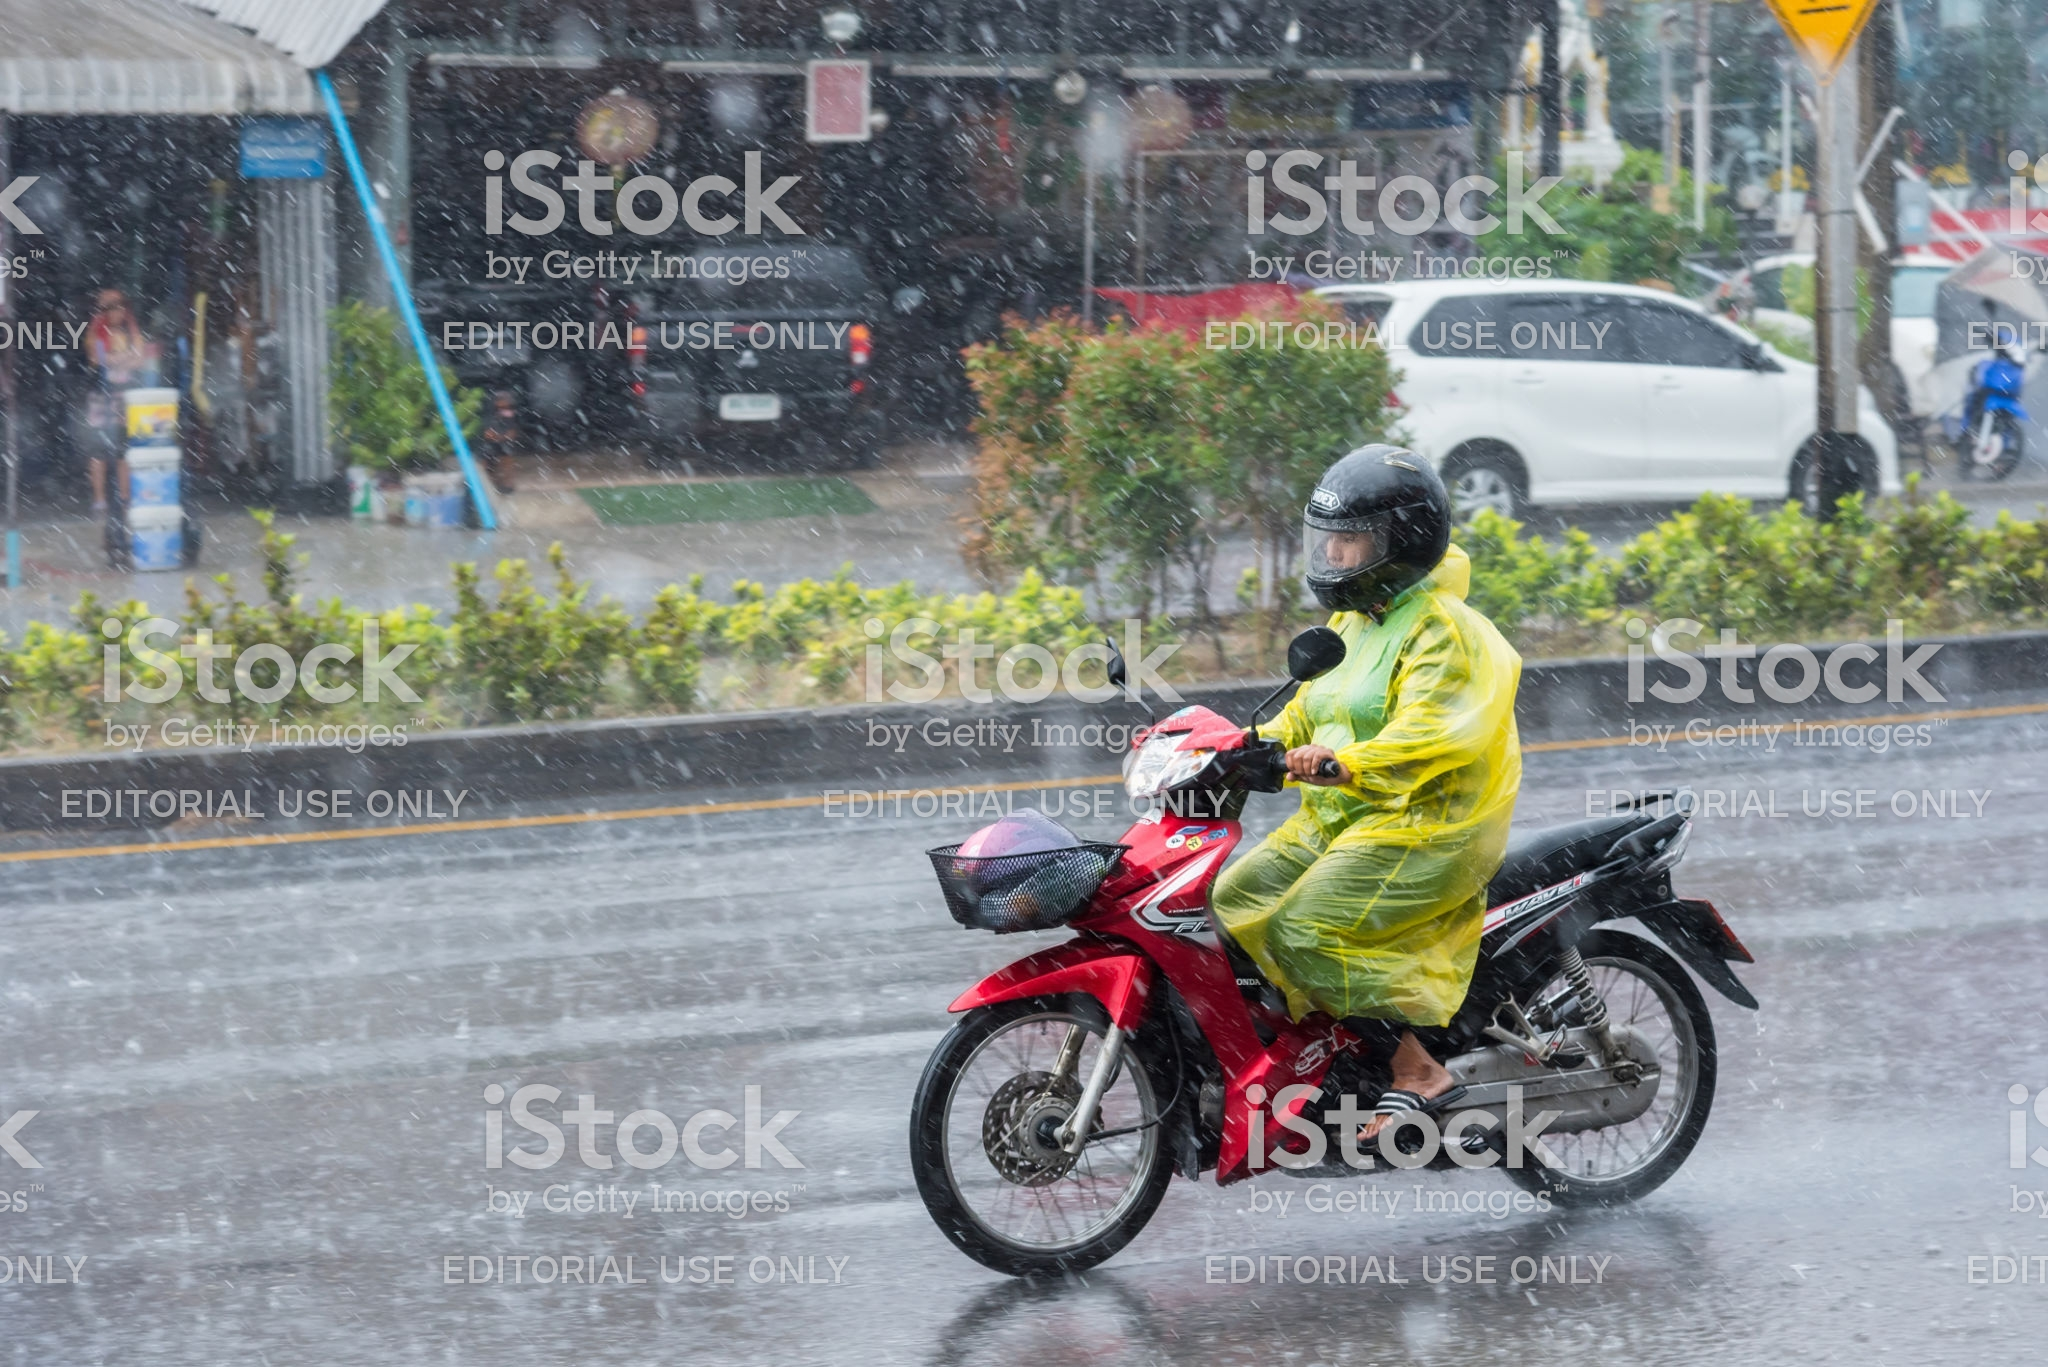helmet: (1304, 436, 1449, 589)
